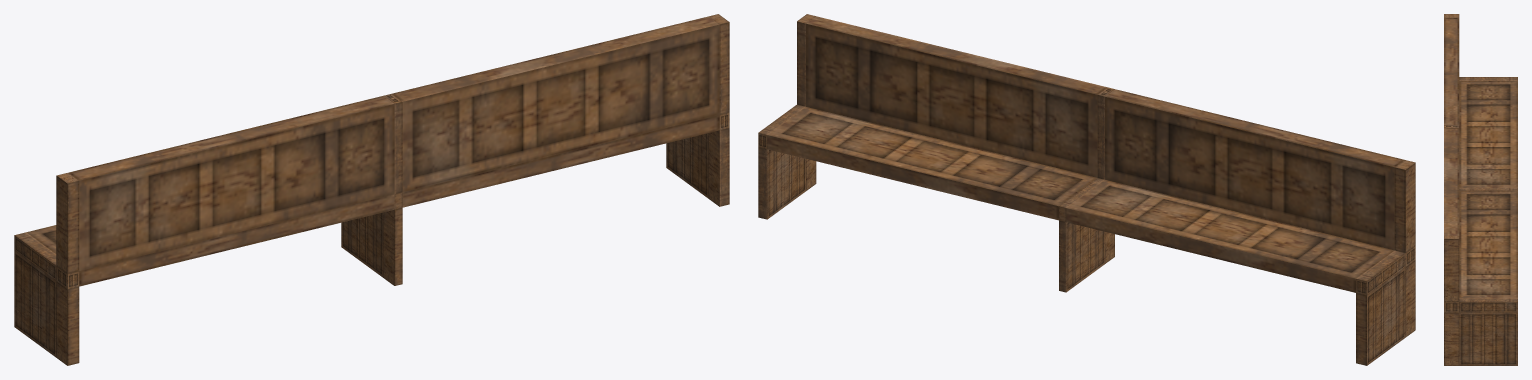
File: pew.fbx
3 views of the same model, side by side, from view 1: azimuth 30°, elevation 25°; view 2: azimuth 150°, elevation 25°; view 3: azimuth 270°, elevation 25° (orthographic). The views are drawn at different scales.
Visible parts, largest first — view 1: pew; view 2: pew; view 3: pew.
Part boxes in pixels (<box>): pew: <box>14,14,729,365</box>; pew: <box>758,14,1415,365</box>; pew: <box>1444,14,1517,365</box>.
Size of the model in its own units: 599 by 158 by 83.27.
